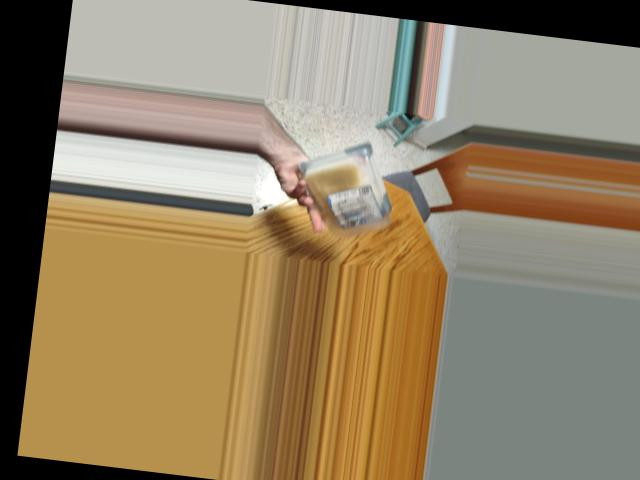cheese: (315, 138, 399, 236)
